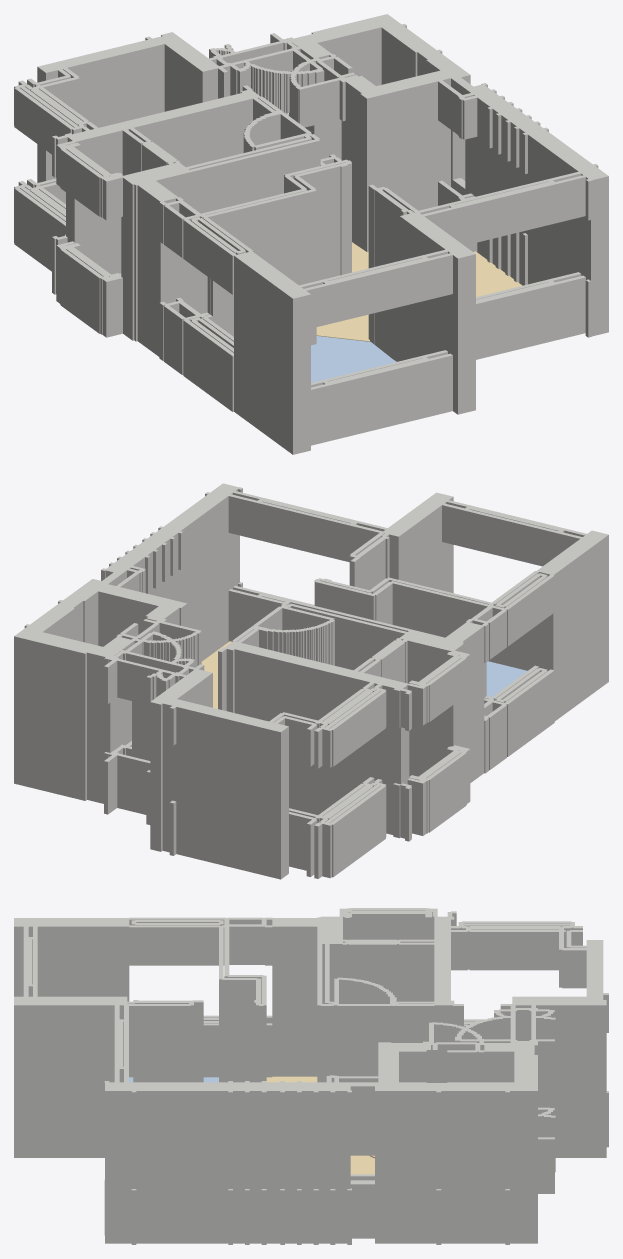
3 renders of one model, top to bottom at view 1: azimuth 30°, elevation 25°; view 2: azimuth 150°, elevation 25°; view 3: azimuth 270°, elevation 25°, orthographic. The views are drawn at different scales.
Visible parts, largest first — view 1: walls, room:bedroom:2, room:living:1; view 2: walls, room:bedroom:2; view 3: walls, room:living:1.
Boxes of the visible parts, box(x1,y1,x2,y2) form: walls: box(14, 14, 608, 454); room:bedroom:2: box(311, 336, 395, 382); room:living:1: box(316, 242, 522, 341); walls: box(14, 483, 608, 879); room:bedroom:2: box(486, 661, 527, 697); walls: box(14, 908, 608, 1244); room:living:1: box(266, 1076, 374, 1174).
Bounding box in the file's own units: 7.26 × 2.8 × 9.9.
